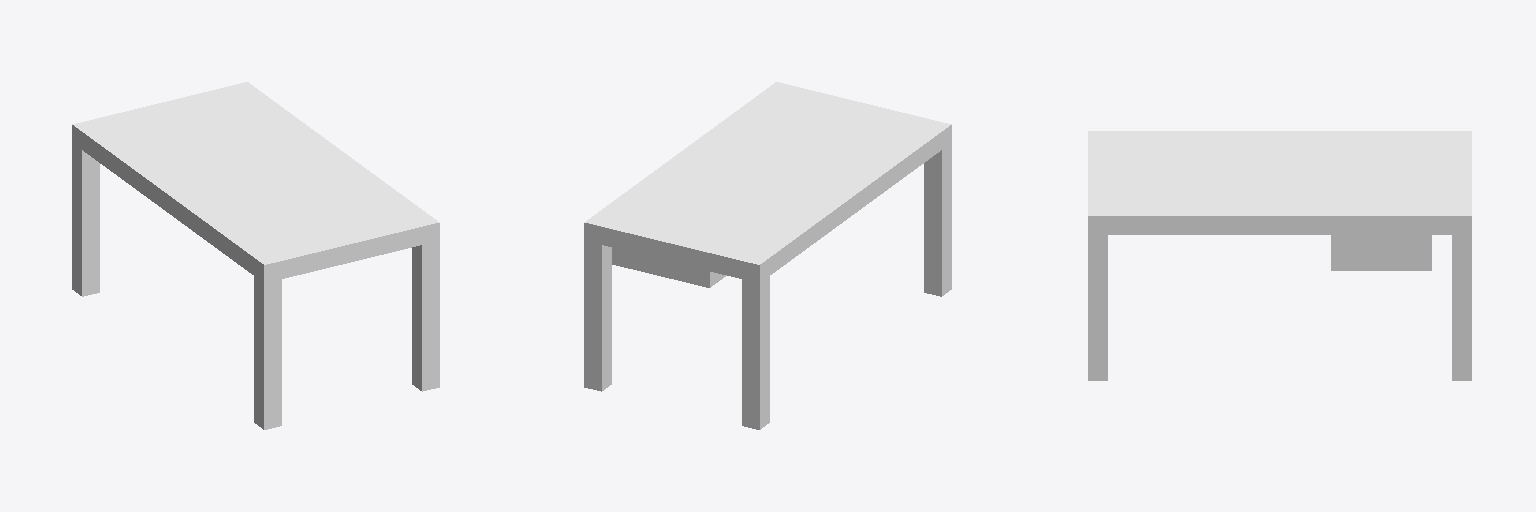
The model's file is Table02.obj.
3 renders of one model, left to right at view 1: azimuth 30°, elevation 25°; view 2: azimuth 150°, elevation 25°; view 3: azimuth 270°, elevation 25°, orthographic.
Parts seen in each view (by area): view 1: object 1; view 2: object 1; view 3: object 1.
Part boxes in pixels (left/top/right/bottom): object 1: left=72, top=82, right=439, bottom=429; object 1: left=584, top=82, right=951, bottom=429; object 1: left=1088, top=131, right=1471, bottom=380.
Size of the model in its own units: 1 by 0.9 by 1.9.